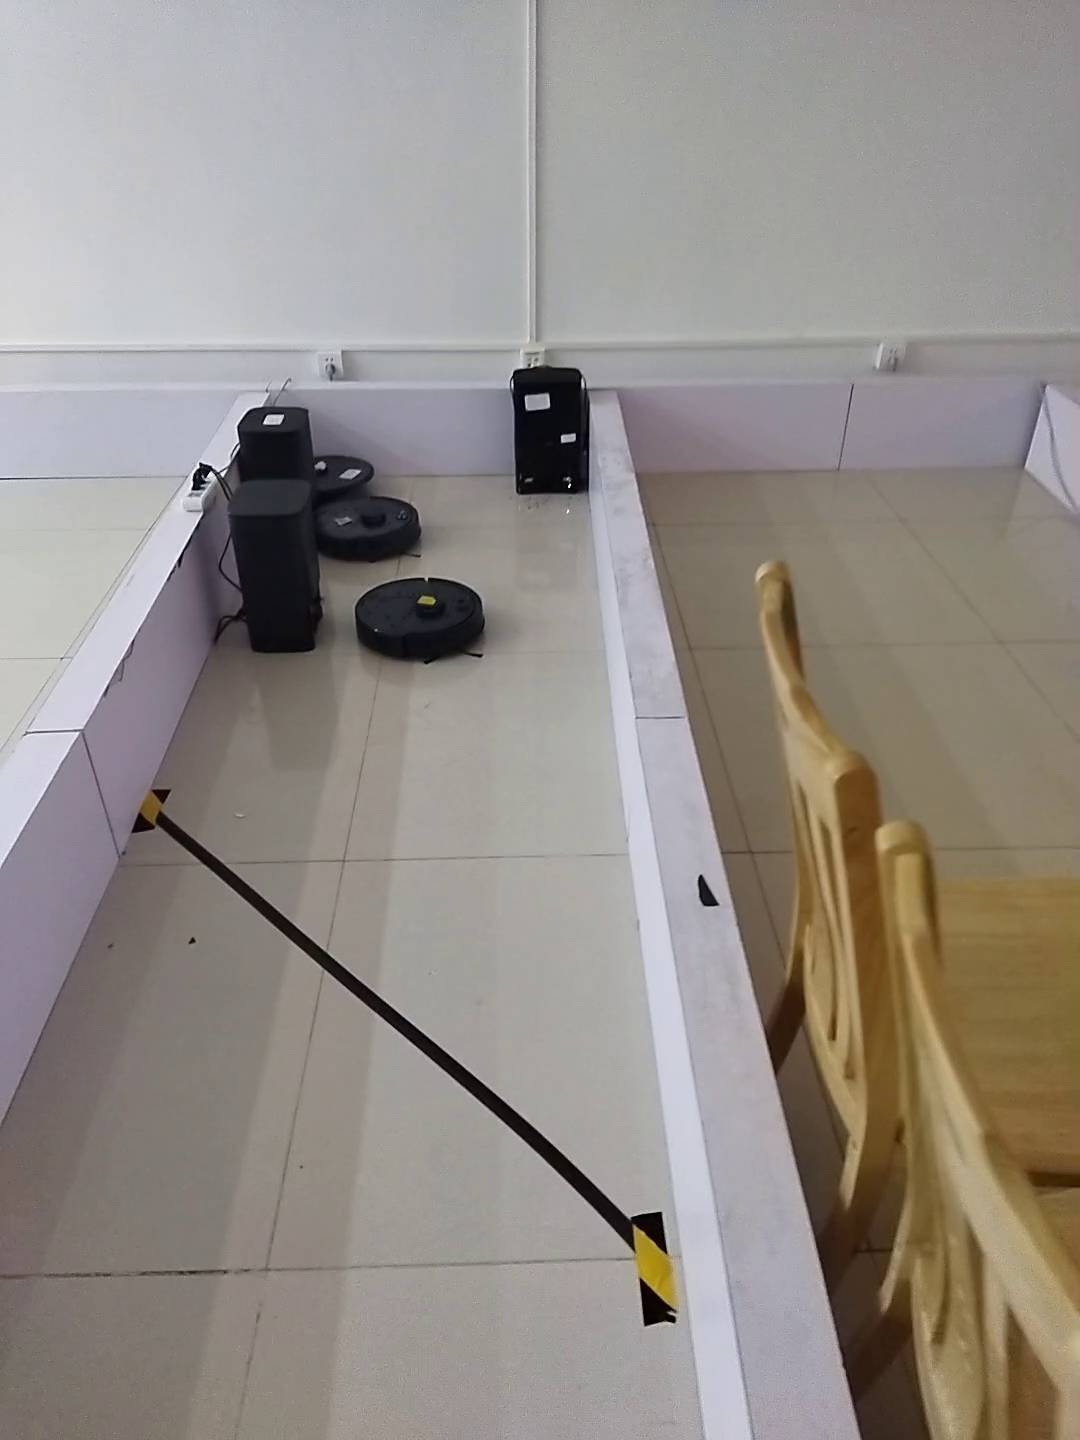dust collecting barrel: (228, 476, 326, 653), (514, 366, 593, 492), (234, 407, 317, 476)
